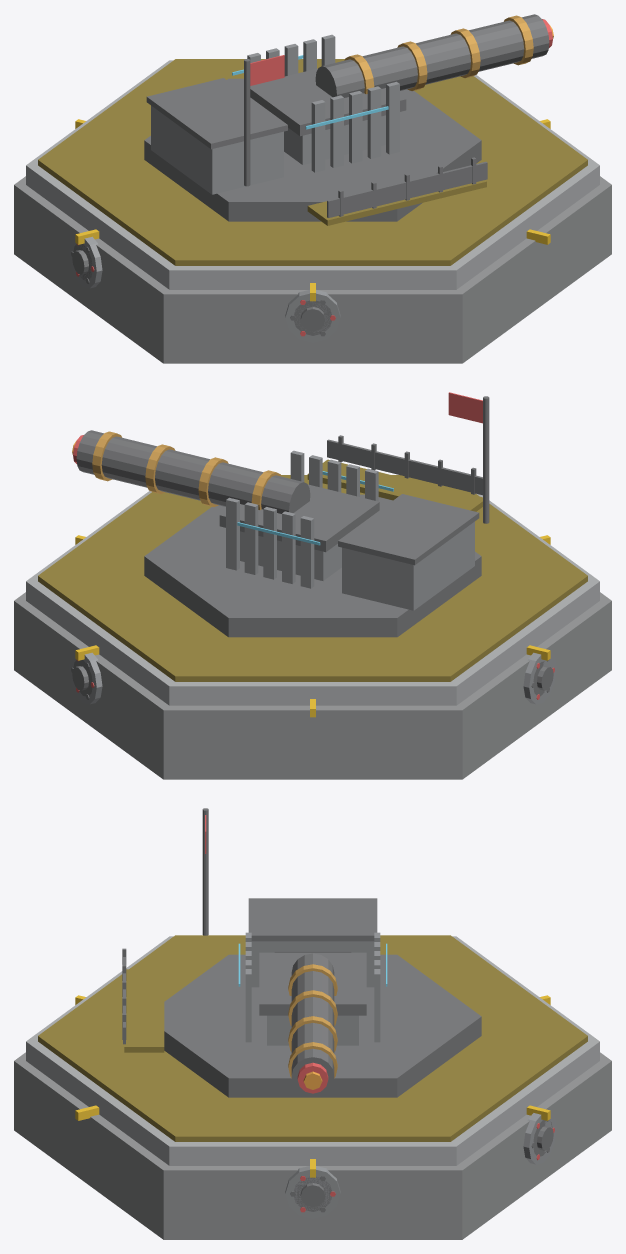
Rendered from phalanx_s2_100.glb.
3 views of the same model, one above another, from view 1: azimuth 30°, elevation 25°; view 2: azimuth 150°, elevation 25°; view 3: azimuth 270°, elevation 25° (orthographic).
Visible parts, largest first — view 1: Phalanx_s2; view 2: Phalanx_s2; view 3: Phalanx_s2.
Part boxes in pixels (box(x1,y1,x2,y2)): Phalanx_s2: box(14, 14, 611, 363); Phalanx_s2: box(14, 392, 611, 779); Phalanx_s2: box(14, 808, 611, 1239).
Size of the model in its own units: 3.56 by 1.89 by 3.9.
